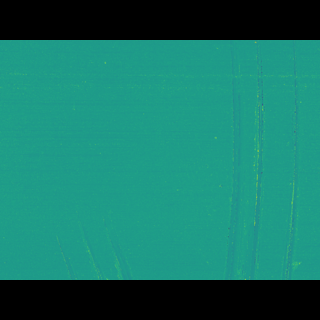Loch: (217, 68, 308, 250), (50, 188, 139, 250)
